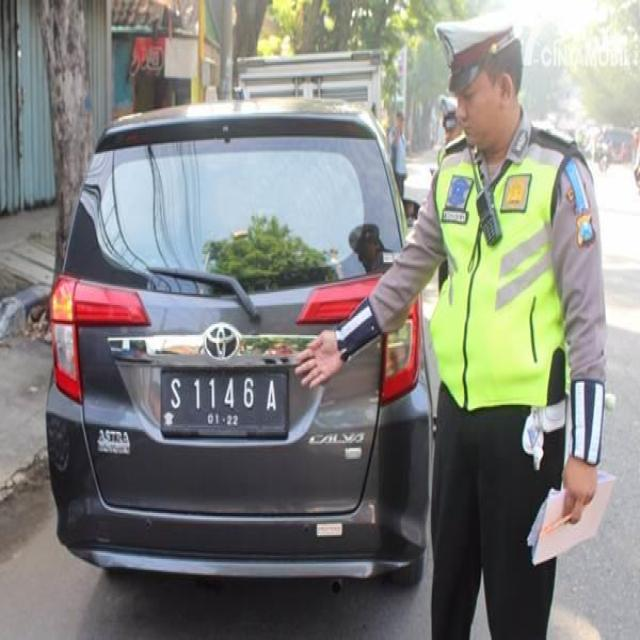lisence-plate: (160, 354, 294, 461)
